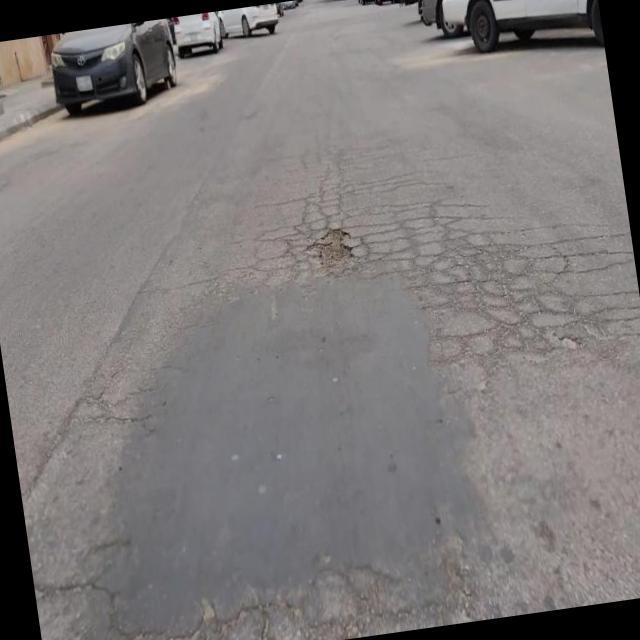Pothole: (307, 225, 357, 270)
